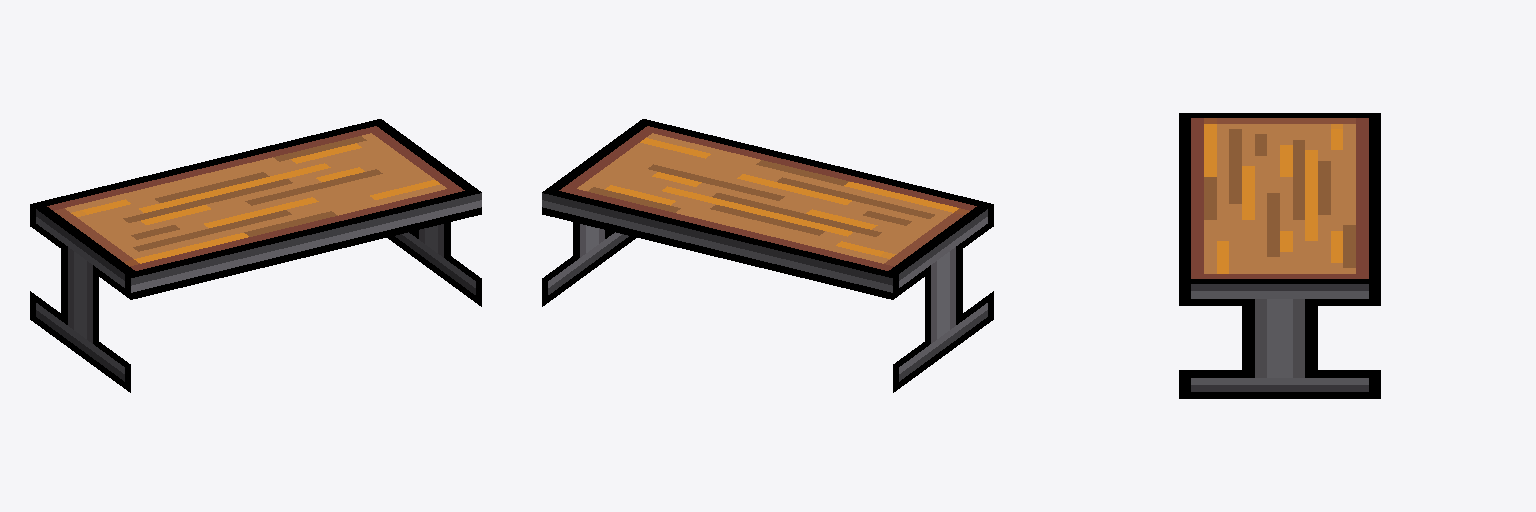
The picture shows the model from 3 angles: view 1: azimuth 30°, elevation 25°; view 2: azimuth 150°, elevation 25°; view 3: azimuth 270°, elevation 25°; orthographic projection.
Parts seen in each view (by area): view 1: Box 1; view 2: Box 1; view 3: Box 1.
Boxes of the visible parts, x1,y1,x2,y2 form: Box 1: [30, 119, 481, 392]; Box 1: [542, 119, 993, 392]; Box 1: [1179, 113, 1380, 398].
Size of the model in its own units: 32 by 10 by 16.
1 materials, 1 textured.